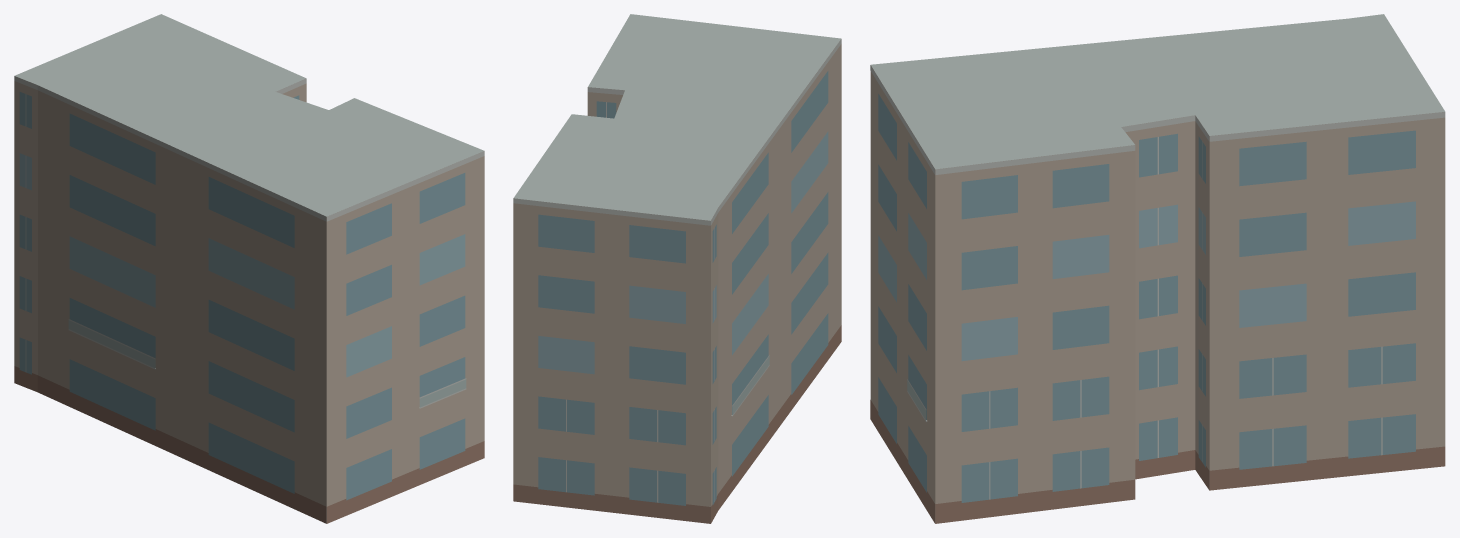
File: survey-upis-32839152.glb
3 renders of one model, left to right at view 1: azimuth 30°, elevation 25°; view 2: azimuth 150°, elevation 25°; view 3: azimuth 270°, elevation 25°, orthographic. The views are drawn at different scales.
Parts seen in each view (by area): view 1: survey-upis-32839152.tmp; view 2: survey-upis-32839152.tmp; view 3: survey-upis-32839152.tmp.
Part boxes in pixels (x1,y1,x2,y2): survey-upis-32839152.tmp: [14, 14, 484, 523]; survey-upis-32839152.tmp: [513, 14, 841, 523]; survey-upis-32839152.tmp: [870, 14, 1445, 523].
Size of the model in its own units: 14.02 by 14.9 by 21.91.
